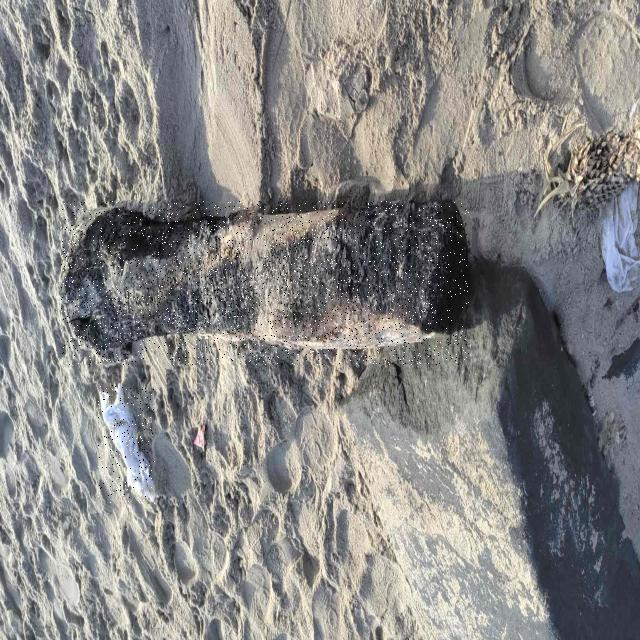biowaste: (61, 201, 469, 365)
paper: (99, 385, 155, 503)
